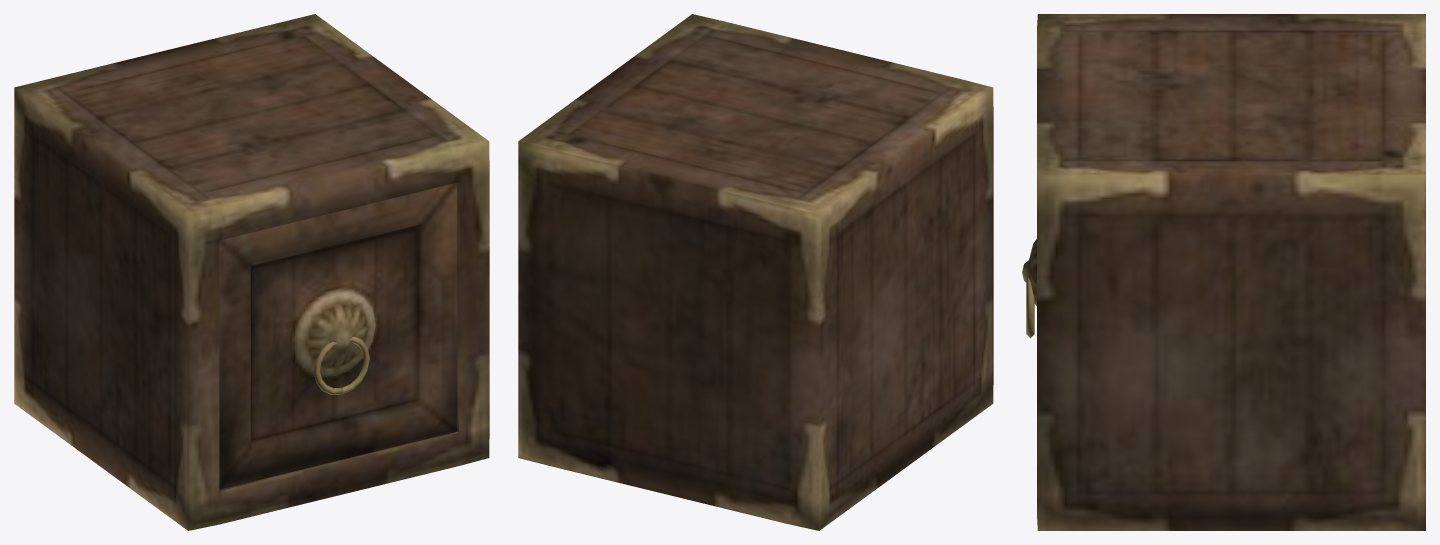
The model's file is storage_56_t4_box.glb.
3 views of the same model, side by side, from view 1: azimuth 30°, elevation 25°; view 2: azimuth 150°, elevation 25°; view 3: azimuth 270°, elevation 25° (orthographic). The views are drawn at different scales.
Parts seen in each view (by area): view 1: storage_chest_00; view 2: storage_chest_00; view 3: storage_chest_00.
Part boxes in pixels (x1,y1,x2,y2): storage_chest_00: (14, 14, 489, 530); storage_chest_00: (518, 14, 993, 530); storage_chest_00: (1022, 14, 1425, 530).
Size of the model in its own units: 1 by 1.01 by 1.04.
Materials: 1 (1 with a texture image).
